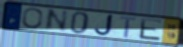0: (69, 11, 91, 35)
E: (139, 17, 164, 42)
J: (93, 13, 115, 37)
N: (43, 8, 70, 32)
O: (21, 7, 44, 30)
T: (118, 15, 137, 39)
